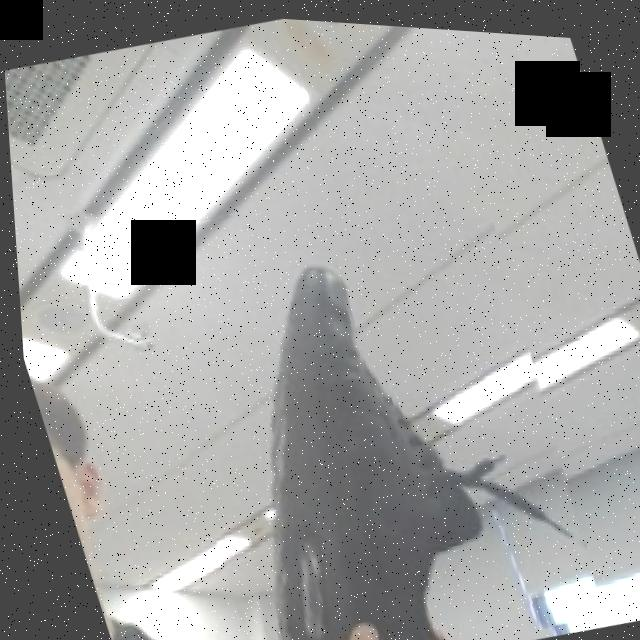shoe: (126, 188, 613, 640)
